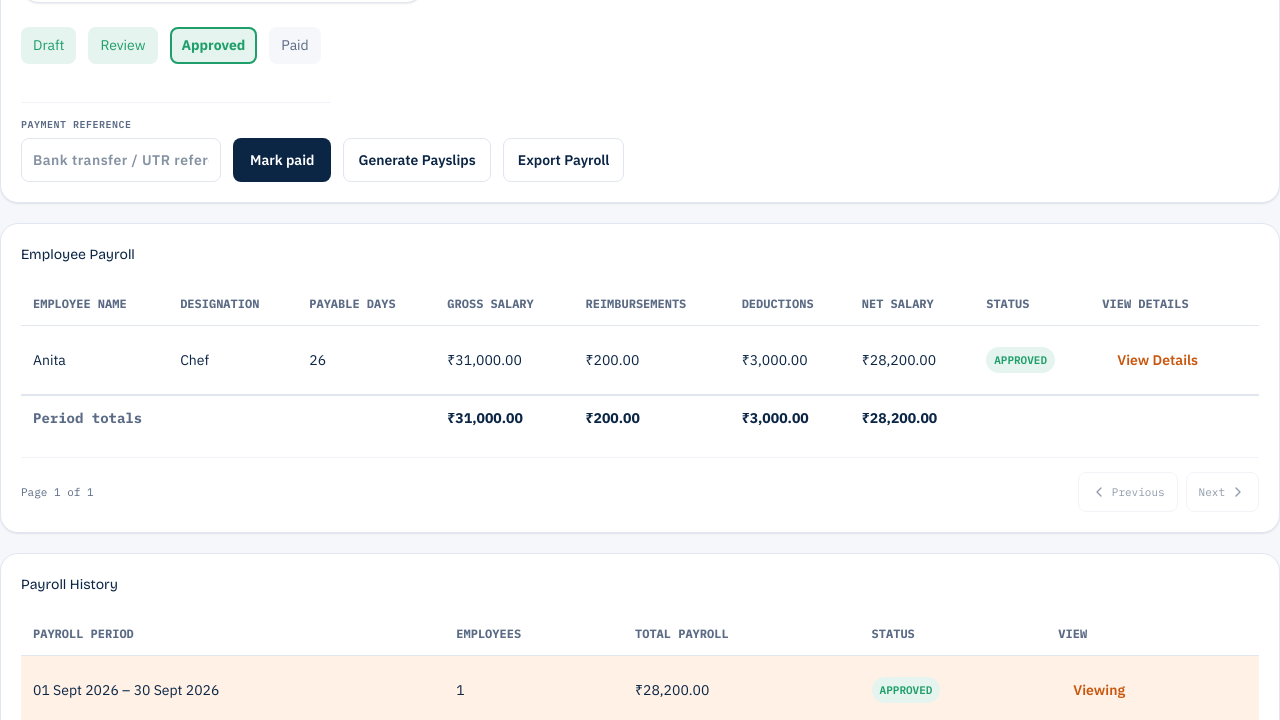
simple payroll workspace › shows the summary and compact table, opening employee details only on demand
(page scrolled)
Expected: the column heading "Payable Days" is shown, [297, 283, 435, 326]
Click the button with aria-label "View details for Anita" at [1158, 360], box [1102, 338, 1213, 382]
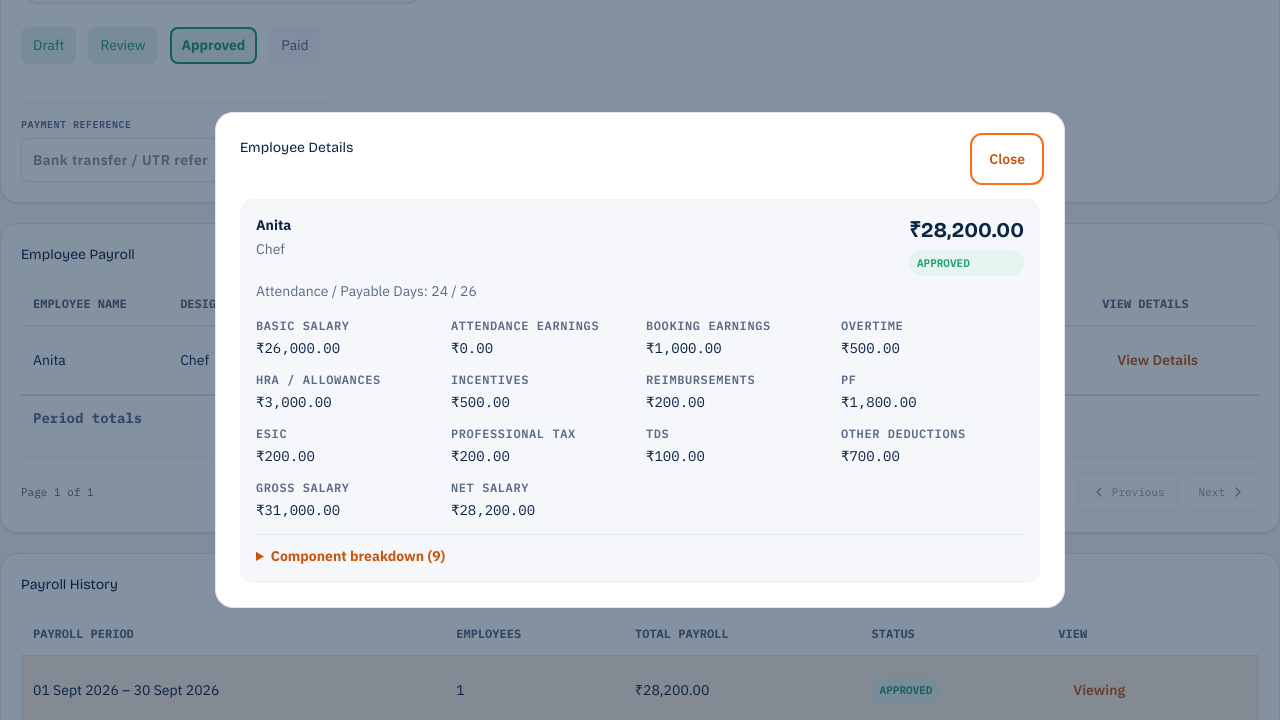
Expected: the text "Basic Salary" is shown, [256, 318, 350, 333]
Expected: the text "HRA / Allowances" is shown, [256, 372, 381, 387]
Expected: the text "PF" is shown, [841, 372, 857, 387]
Click the button with aria-label "Close employee details" at [1007, 159], box [974, 137, 1040, 181]
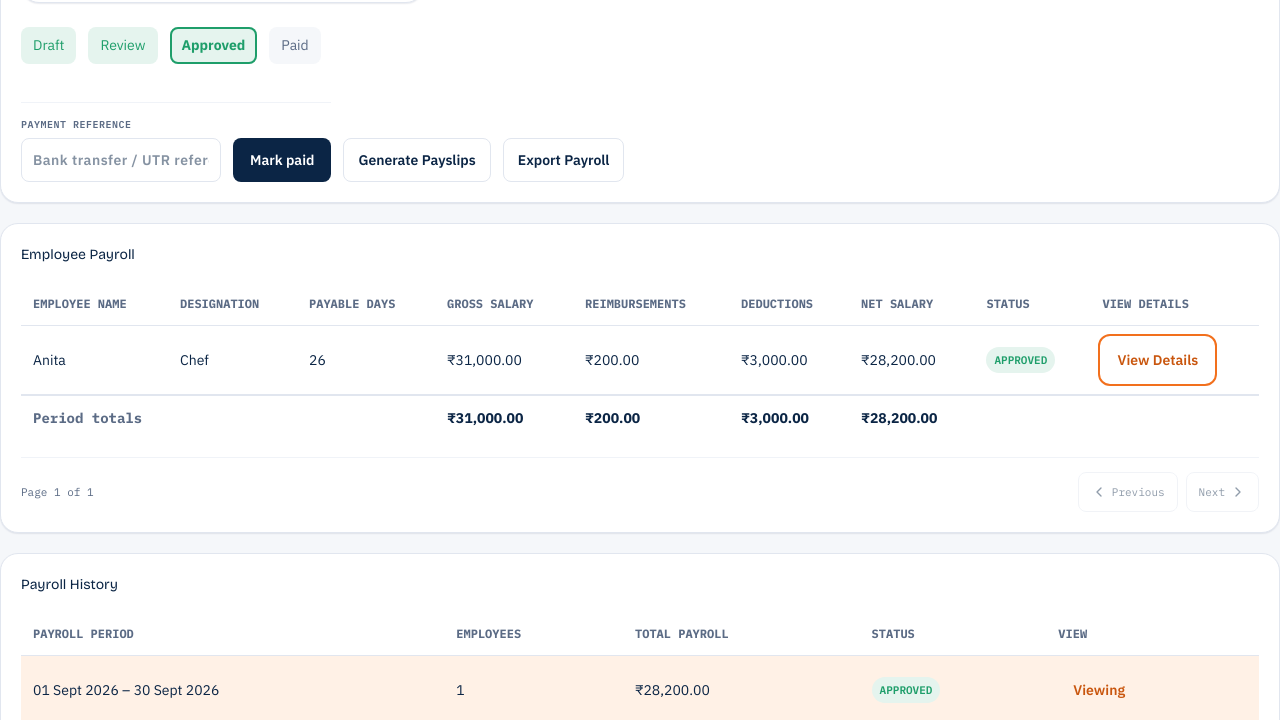
Expected: the dialog is gone
